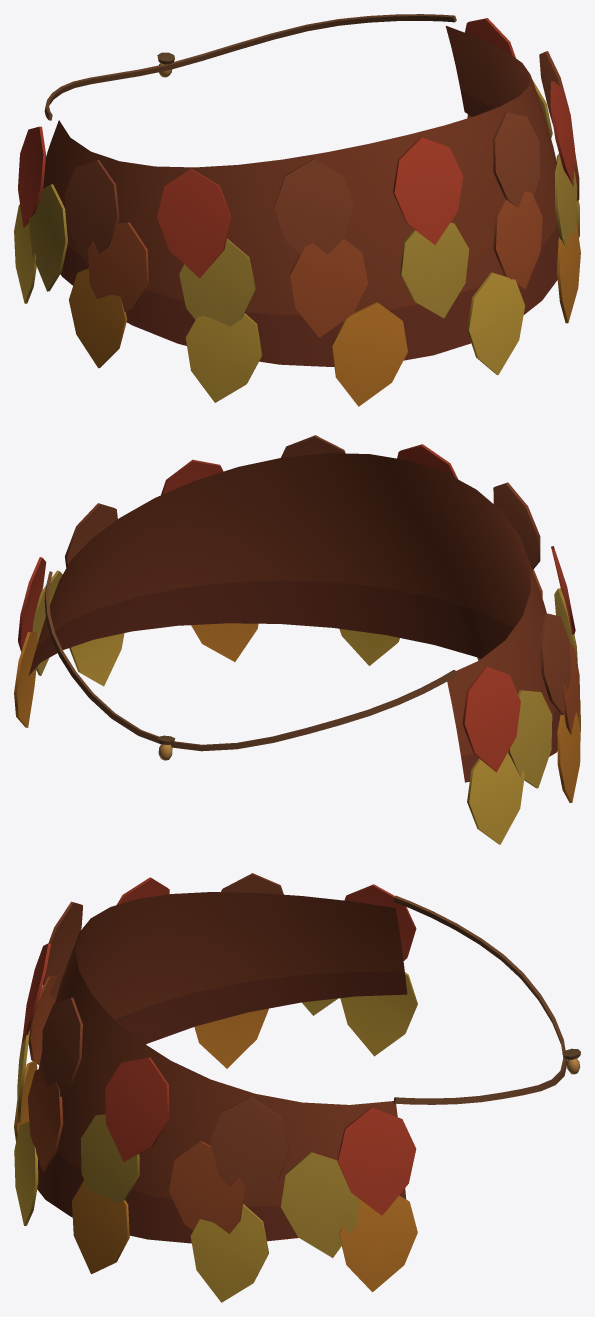
File: cos_u_leafcape.glb
3 views of the same model, one above another, from view 1: azimuth 30°, elevation 25°; view 2: azimuth 150°, elevation 25°; view 3: azimuth 270°, elevation 25° (orthographic). The views are drawn at different scales.
Parts seen in each view (by area): view 1: u_leafcape; view 2: u_leafcape; view 3: u_leafcape.
Boxes of the visible parts, bbox=[...] form: u_leafcape: bbox=[14, 14, 580, 406]; u_leafcape: bbox=[14, 435, 580, 844]; u_leafcape: bbox=[14, 873, 580, 1302].
Size of the model in its own units: 1.17 by 0.5572 by 1.14.
